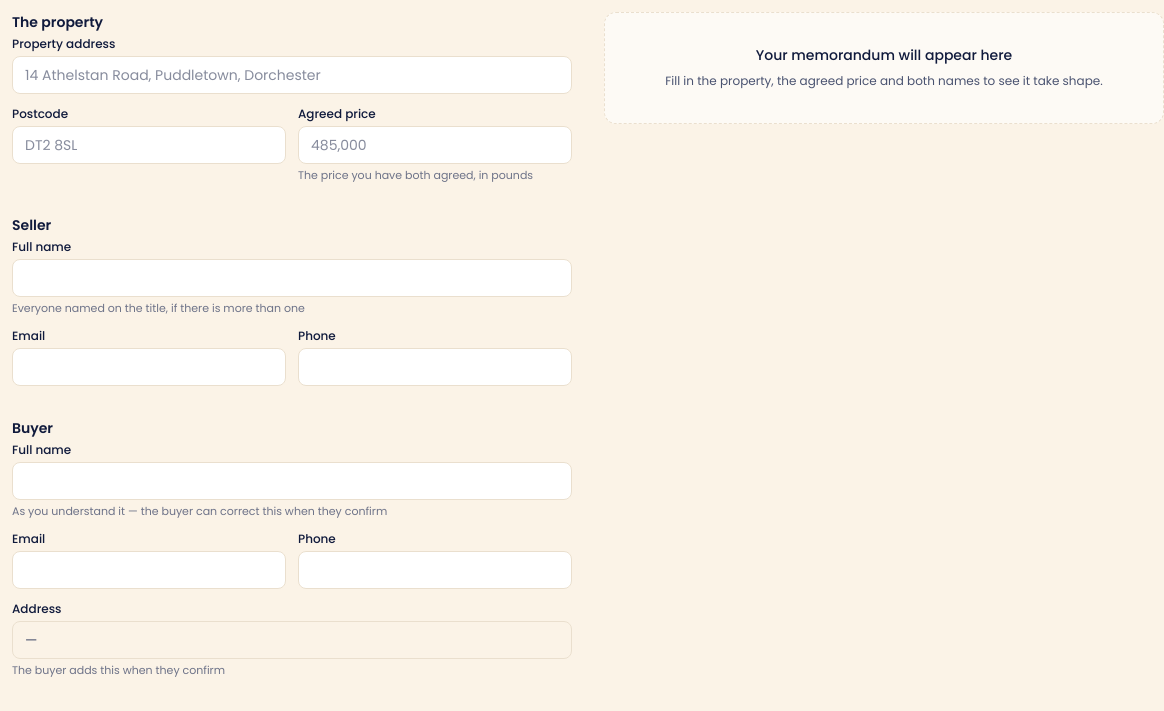
Test case: MemorandumBuilder › shows the document once the essentials are in
Type "14 Athelstan Road, Puddletown" into the field labelled "Property address" at (292, 75), box [12,56,572,94]
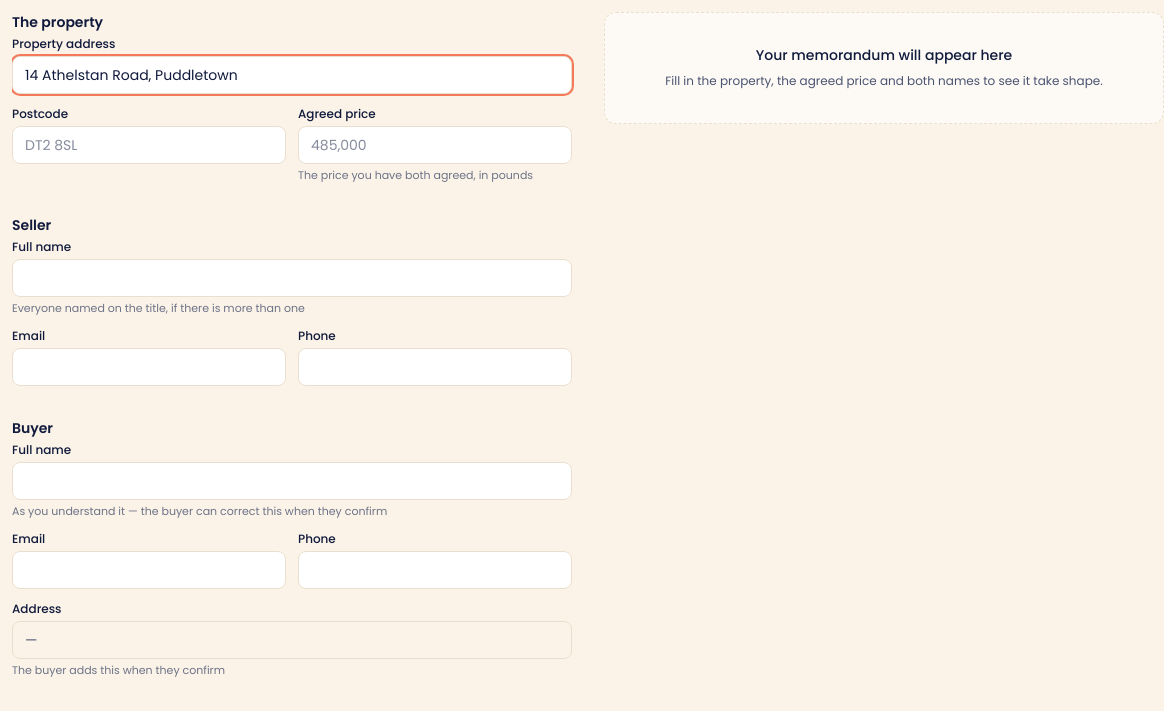
Type "485000" into the field labelled "Agreed price" at (435, 145), box [298,126,572,164]
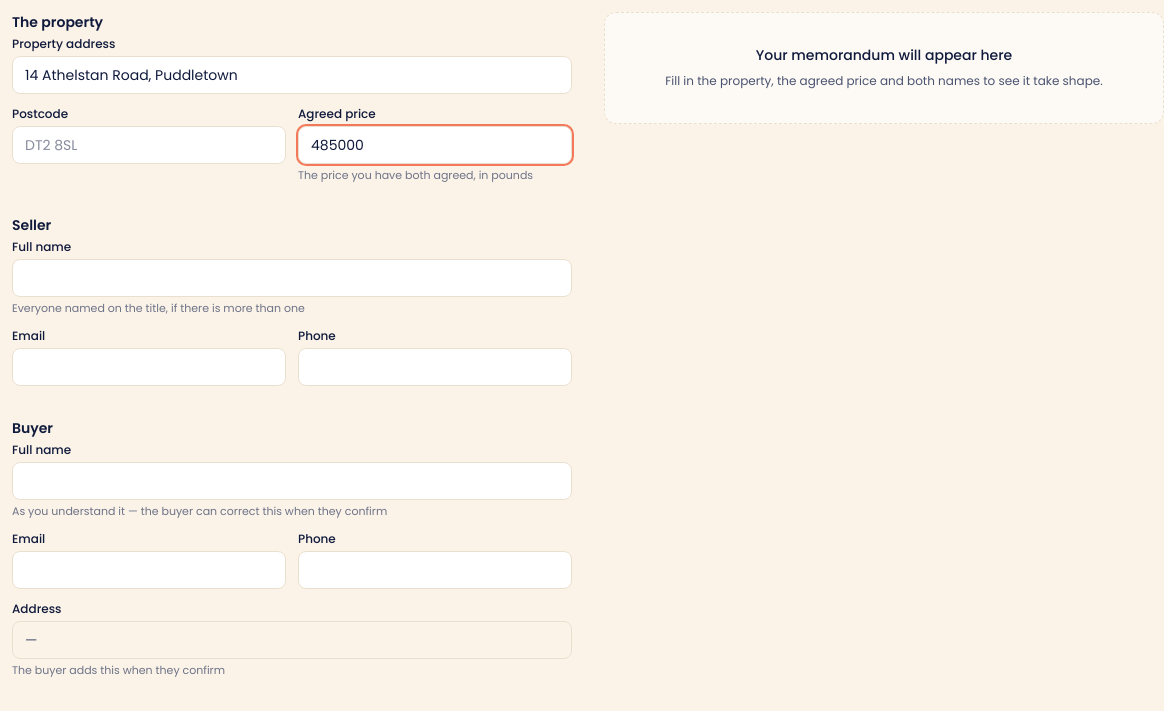
Type "William Boltwood" into the 1st field labelled "Full name" at (292, 278), box [12,259,572,297]
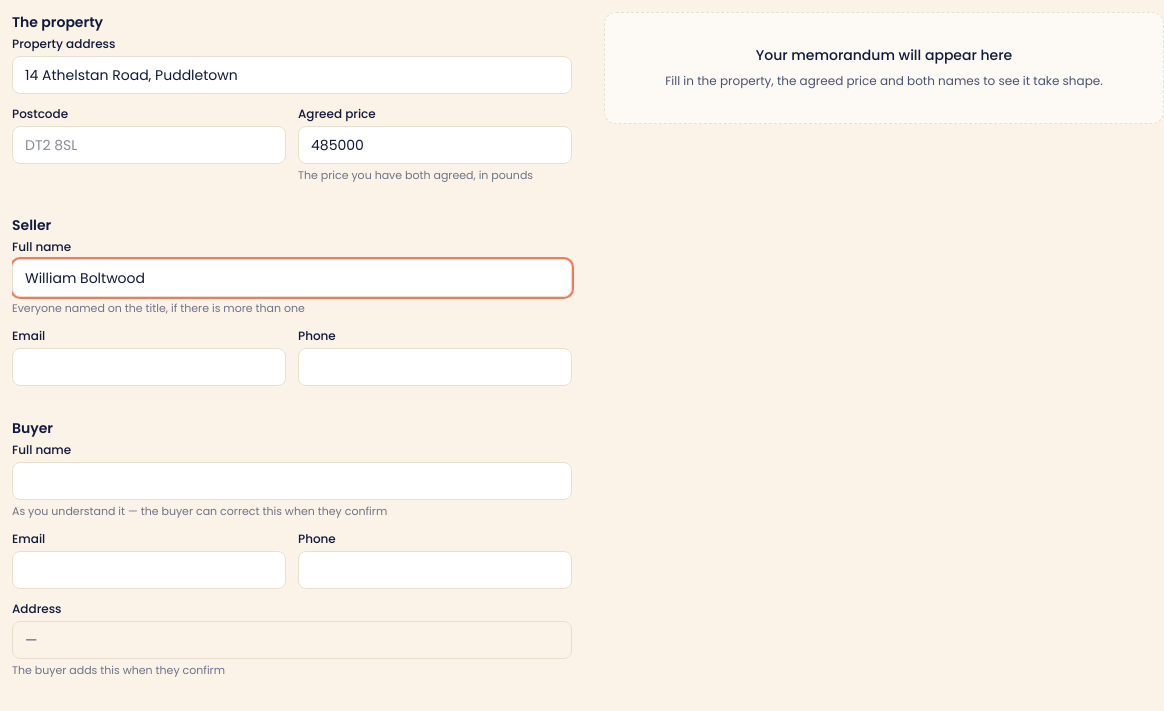
Type "James Law" into the 2nd field labelled "Full name" at (292, 481), box [12,462,572,500]
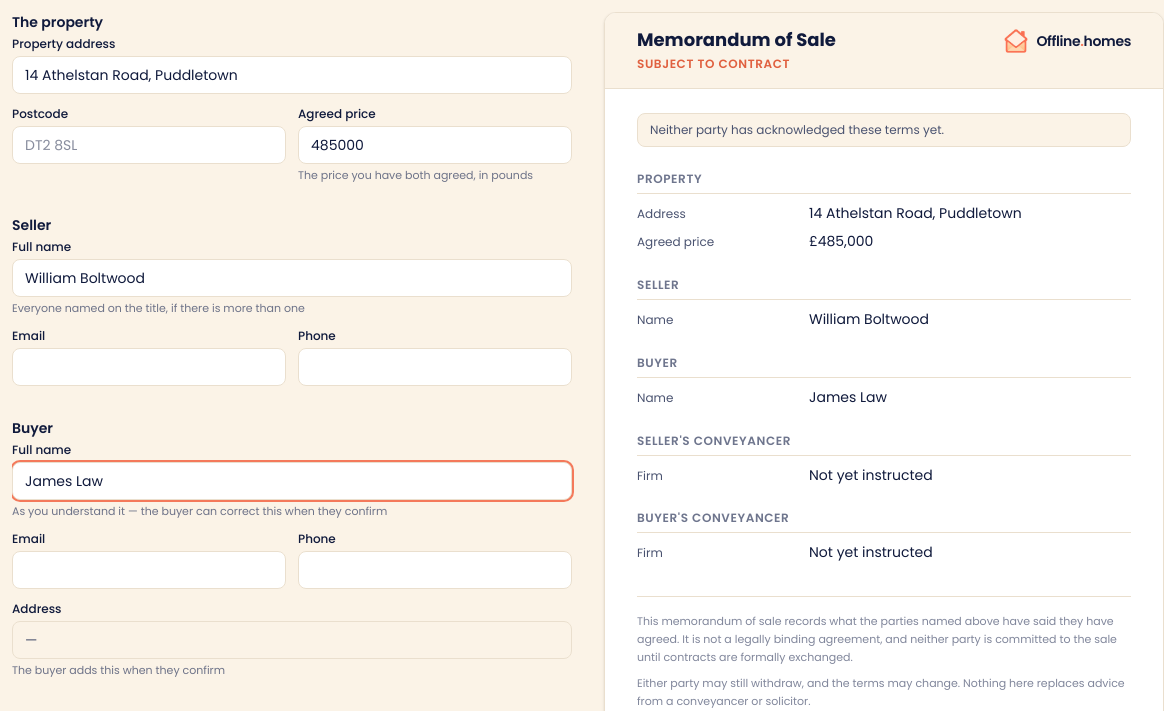
Expected: the heading "Memorandum of Sale" is shown, [637,29,836,52]
Expected: the text "£485,000" is shown, [809,231,873,251]
